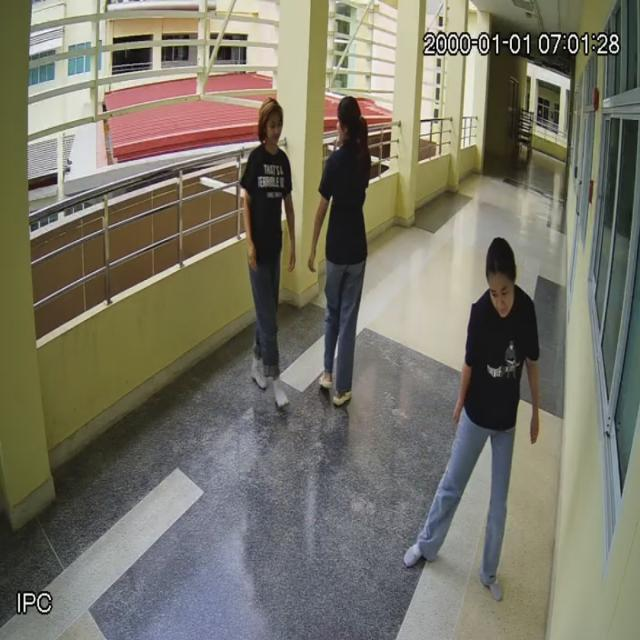normal: (401, 224, 548, 604), (236, 87, 300, 420), (315, 91, 372, 407)
